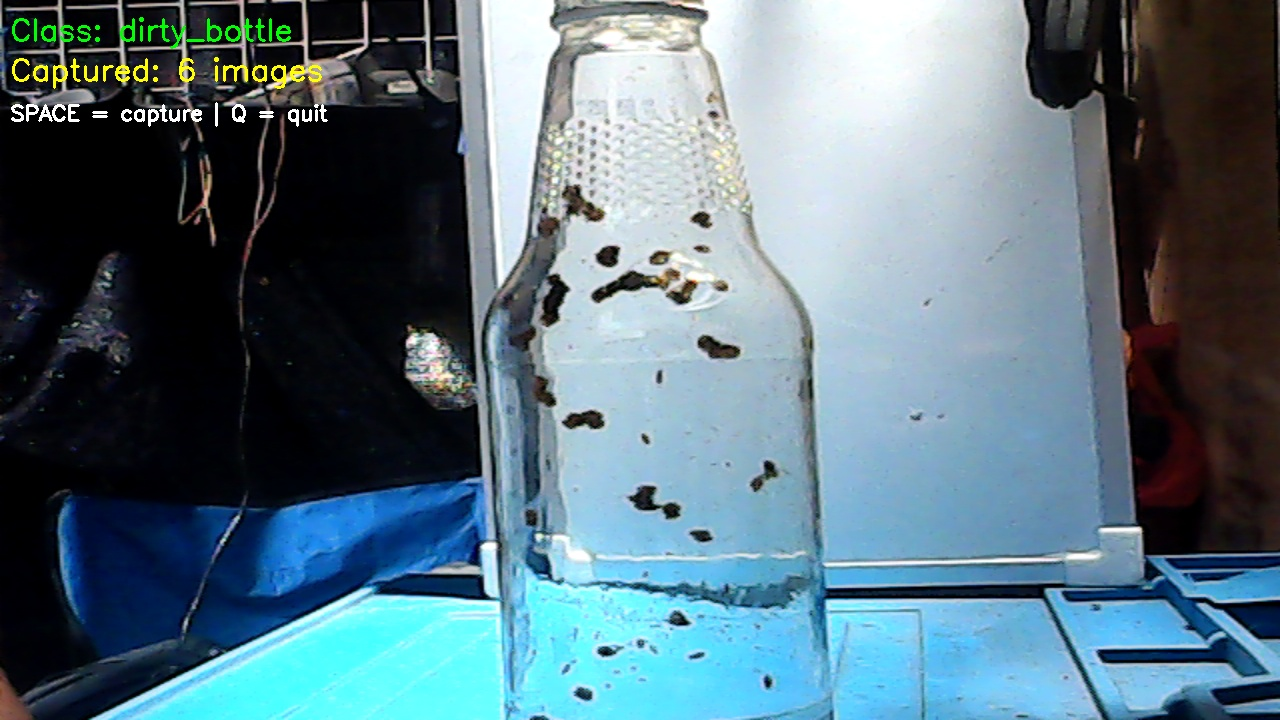dirty_bottle: (481, 10, 839, 720)
